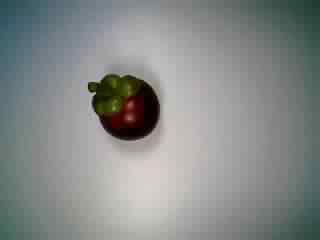mangosteen: (81, 66, 172, 142)
